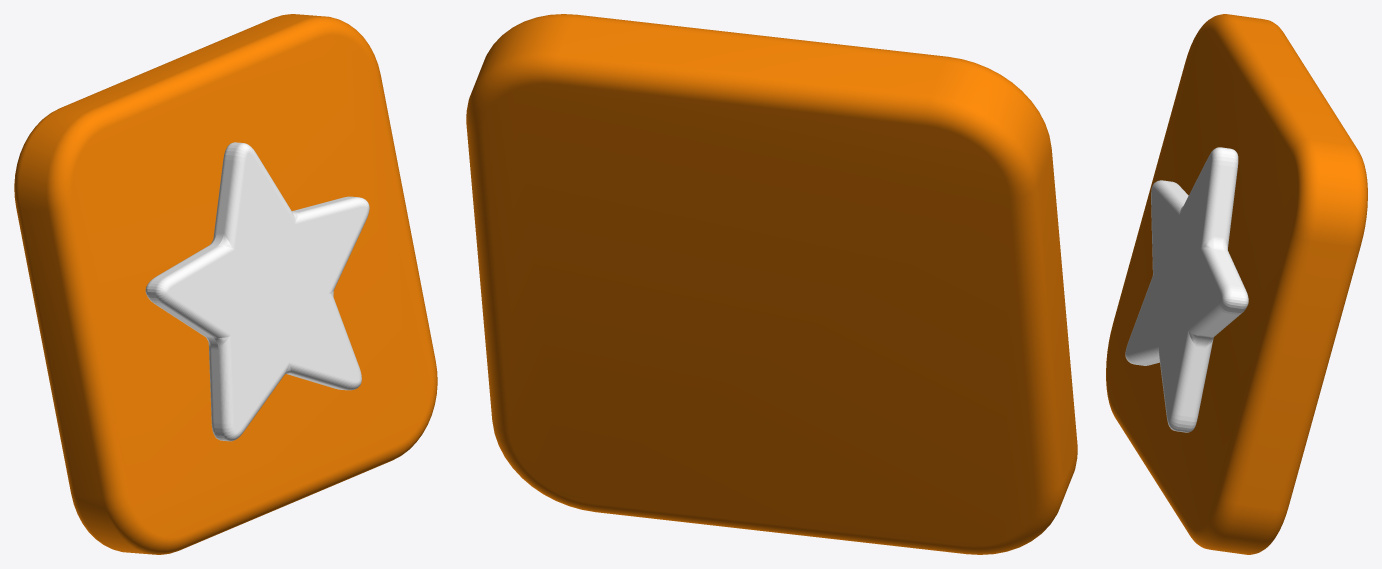
Rendered from stars.glb.
3 renders of one model, left to right at view 1: azimuth 30°, elevation 25°; view 2: azimuth 150°, elevation 25°; view 3: azimuth 270°, elevation 25°, orthographic. The views are drawn at different scales.
Visible parts, largest first — view 1: Plane.022, Circle.001; view 2: Plane.022; view 3: Plane.022, Circle.001.
Part boxes in pixels (left/top/right/bottom): Plane.022: left=14, top=14, right=437, bottom=554; Circle.001: left=145, top=142, right=369, bottom=441; Plane.022: left=466, top=14, right=1077, bottom=554; Plane.022: left=1106, top=14, right=1367, bottom=554; Circle.001: left=1125, top=147, right=1248, bottom=432.
Bounding box in the file's own units: 5.36 × 5.14 × 3.04.
